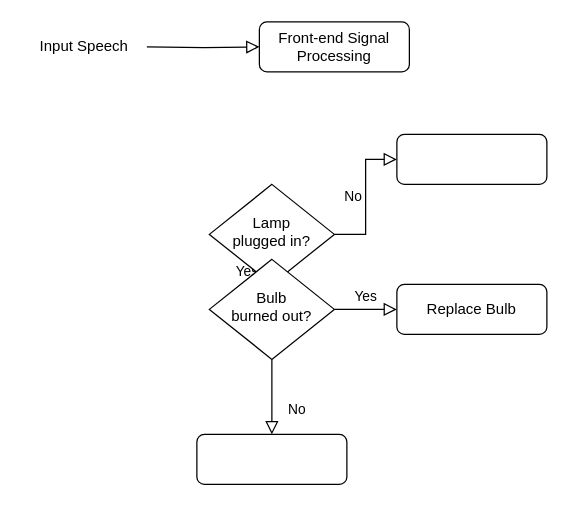
Image size: 569x506. Some labels were removed from this diagram. The shapes that lost their labels are listed below. From the top down, each one's centre as x and y in pixels, then its label:
At [471,158]: "Plug in lamp".
At [271,458]: "Repair Lamp".
